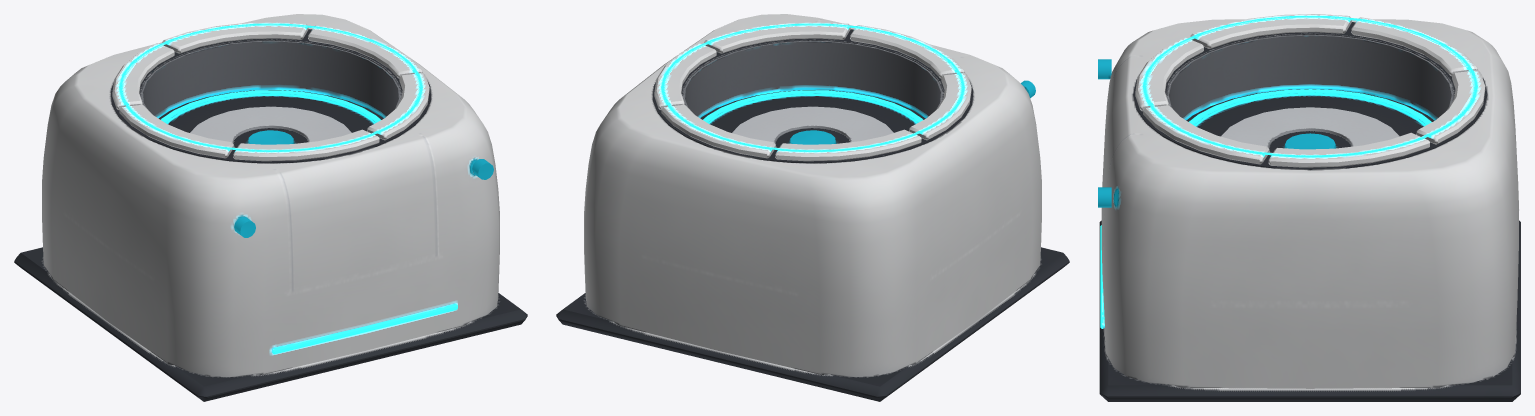
Rendered from R4X_FlyingDroneDeployer.glb.
3 renders of one model, left to right at view 1: azimuth 30°, elevation 25°; view 2: azimuth 150°, elevation 25°; view 3: azimuth 270°, elevation 25°, orthographic. The views are drawn at different scales.
Visible parts, largest first — view 1: R4X_FlyingDroneDeployer_Body, R4X_FlyingDroneDeployer_Iris; view 2: R4X_FlyingDroneDeployer_Body, R4X_FlyingDroneDeployer_Iris; view 3: R4X_FlyingDroneDeployer_Body, R4X_FlyingDroneDeployer_Iris.
Part boxes in pixels (<box>): R4X_FlyingDroneDeployer_Body: <box>14,14,527,401</box>; R4X_FlyingDroneDeployer_Iris: <box>112,22,429,161</box>; R4X_FlyingDroneDeployer_Body: <box>556,14,1069,401</box>; R4X_FlyingDroneDeployer_Iris: <box>654,22,971,161</box>; R4X_FlyingDroneDeployer_Body: <box>1098,19,1520,401</box>; R4X_FlyingDroneDeployer_Iris: <box>1135,14,1485,167</box>.
Size of the model in its own units: 0.5 by 0.3018 by 0.502.
1 material, 1 textured.
